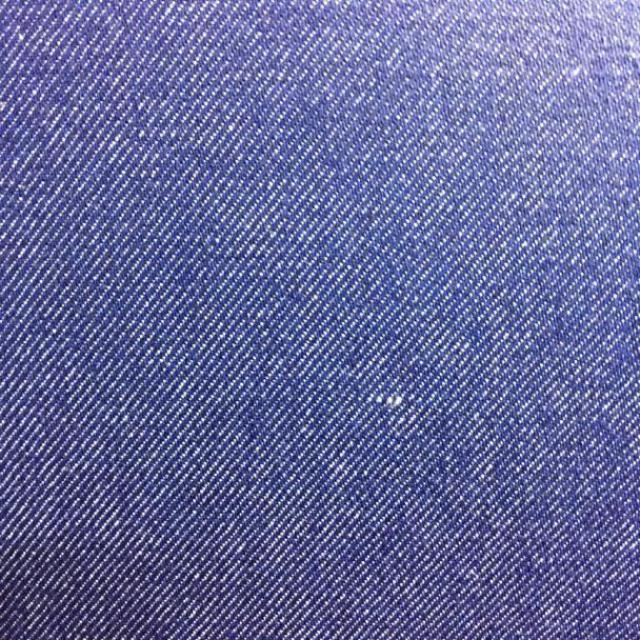Knot: (368, 395, 405, 410)
